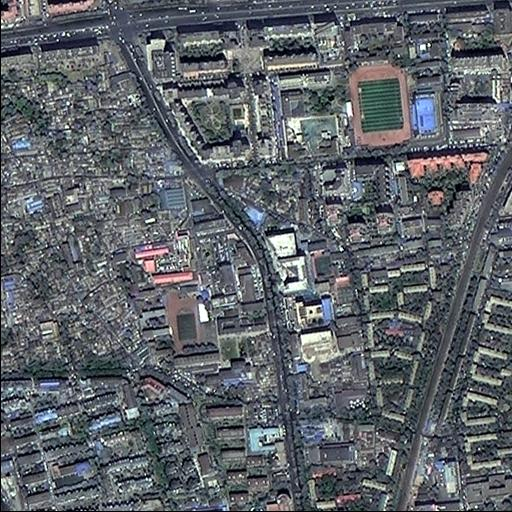school: (272, 59, 449, 154), (165, 290, 277, 381), (301, 233, 363, 303)
